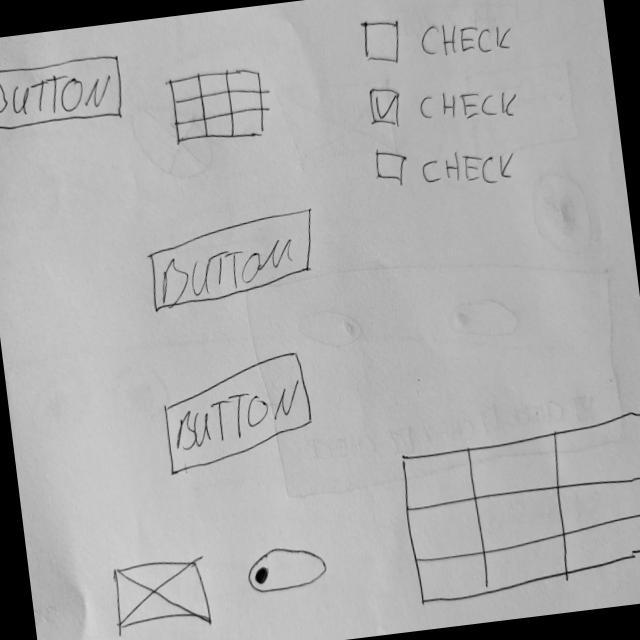button: (152, 346, 321, 478), (138, 204, 324, 316), (0, 51, 129, 137)
checkbox: (356, 0, 519, 74), (361, 66, 523, 140), (371, 130, 520, 201)
image: (108, 552, 218, 638)
table: (393, 403, 640, 607), (163, 61, 274, 151)
toggle: (238, 538, 332, 598)
